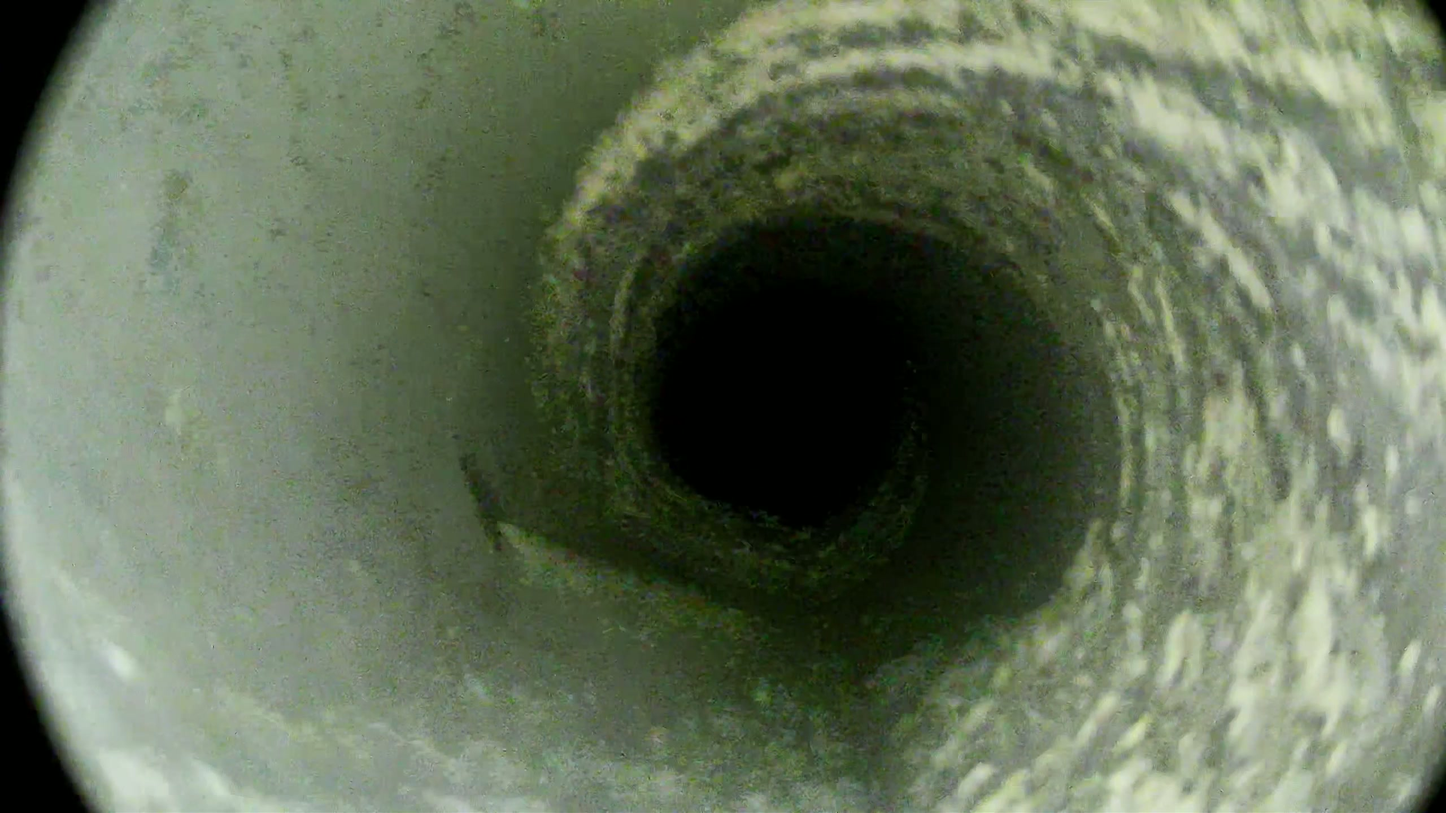hole: (677, 290, 898, 522)
